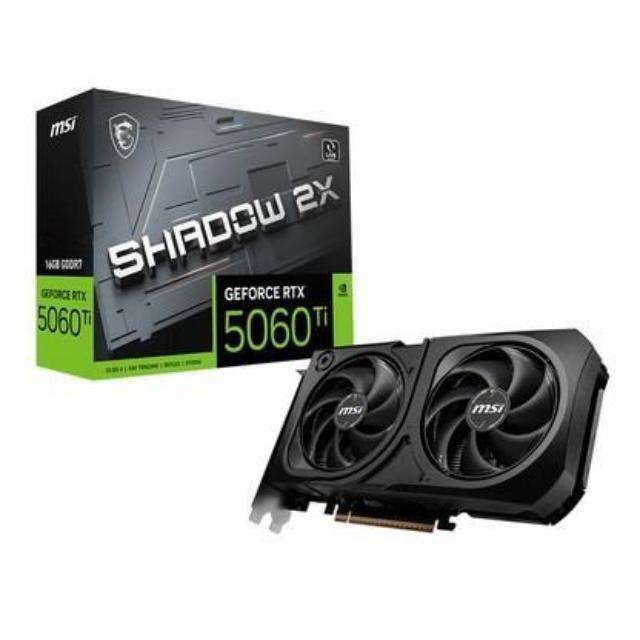GPU: (255, 326, 618, 526)
